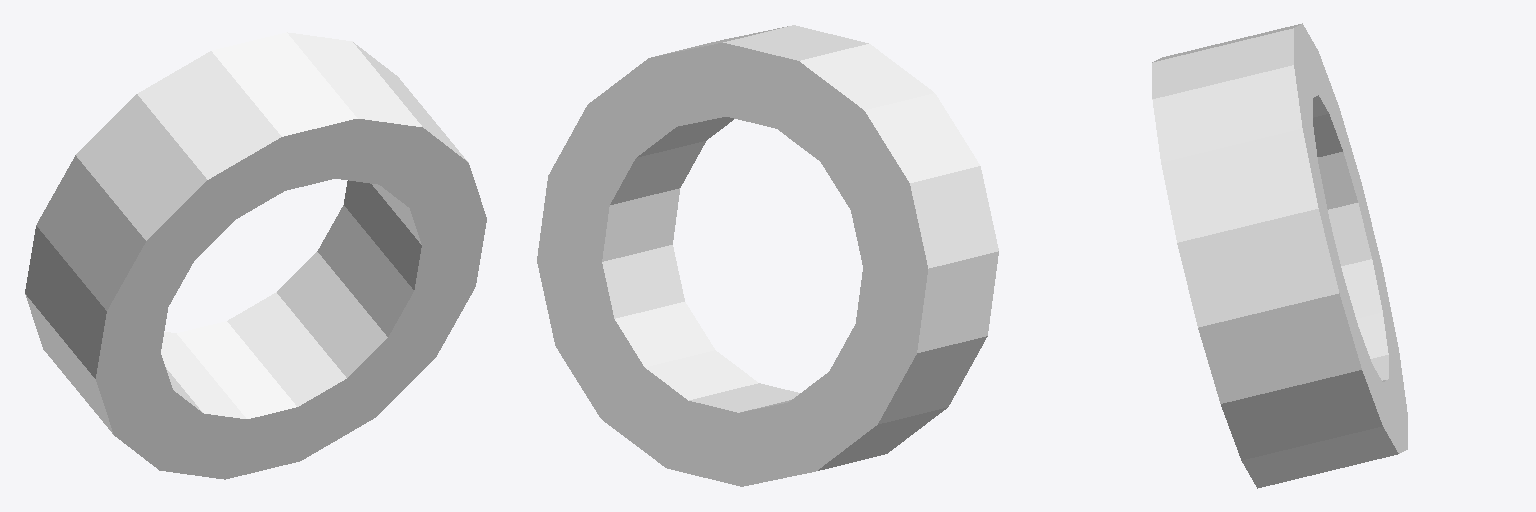
The model's file is mt_tire_display_b.obj.
3 views of the same model, side by side, from view 1: azimuth 30°, elevation 25°; view 2: azimuth 150°, elevation 25°; view 3: azimuth 270°, elevation 25° (orthographic).
Parts seen in each view (by area): view 1: hexadecagon; view 2: hexadecagon; view 3: hexadecagon.
Part boxes in pixels (x1,y1,x2,y2): hexadecagon: (25, 32, 486, 479); hexadecagon: (537, 25, 998, 486); hexadecagon: (1152, 23, 1407, 488).
Bounding box in the file's own units: 0.9923 × 1.04 × 0.5768.